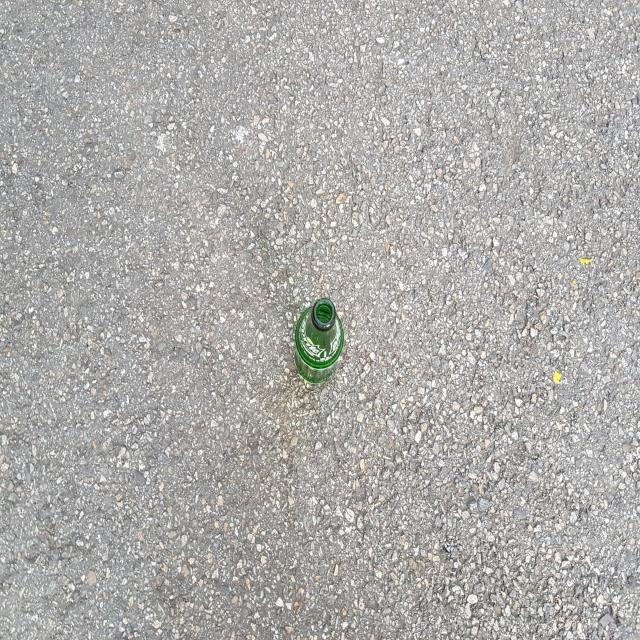glass: (295, 298, 344, 384)
